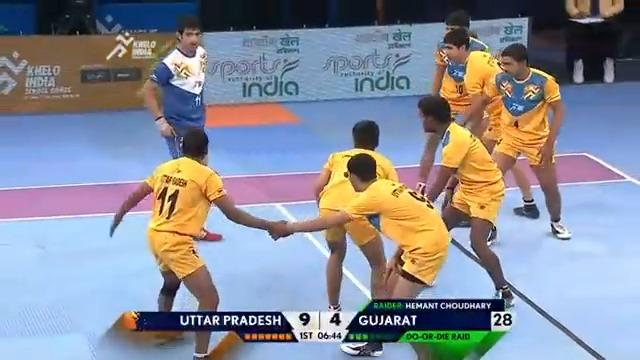Player: (108, 125, 286, 358), (269, 118, 400, 313), (339, 152, 450, 356), (414, 93, 515, 308), (487, 42, 572, 240), (429, 27, 506, 242)
Raider: (142, 15, 221, 241)
referee: (562, 0, 623, 84)
